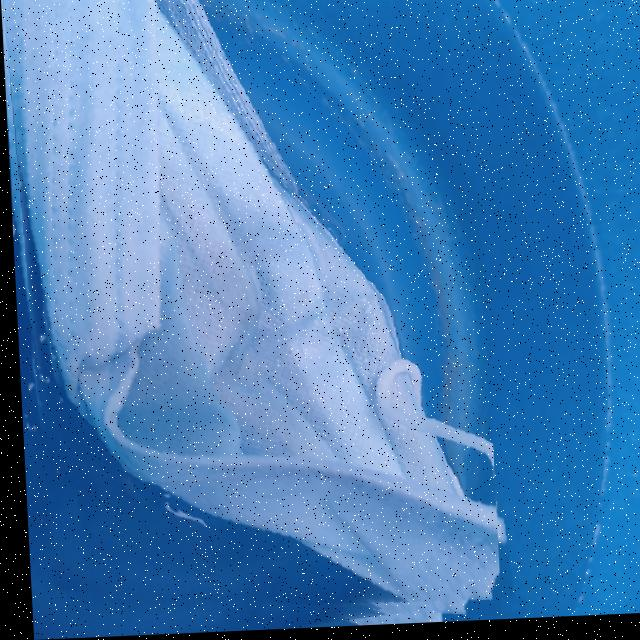litter: (0, 0, 494, 640)
